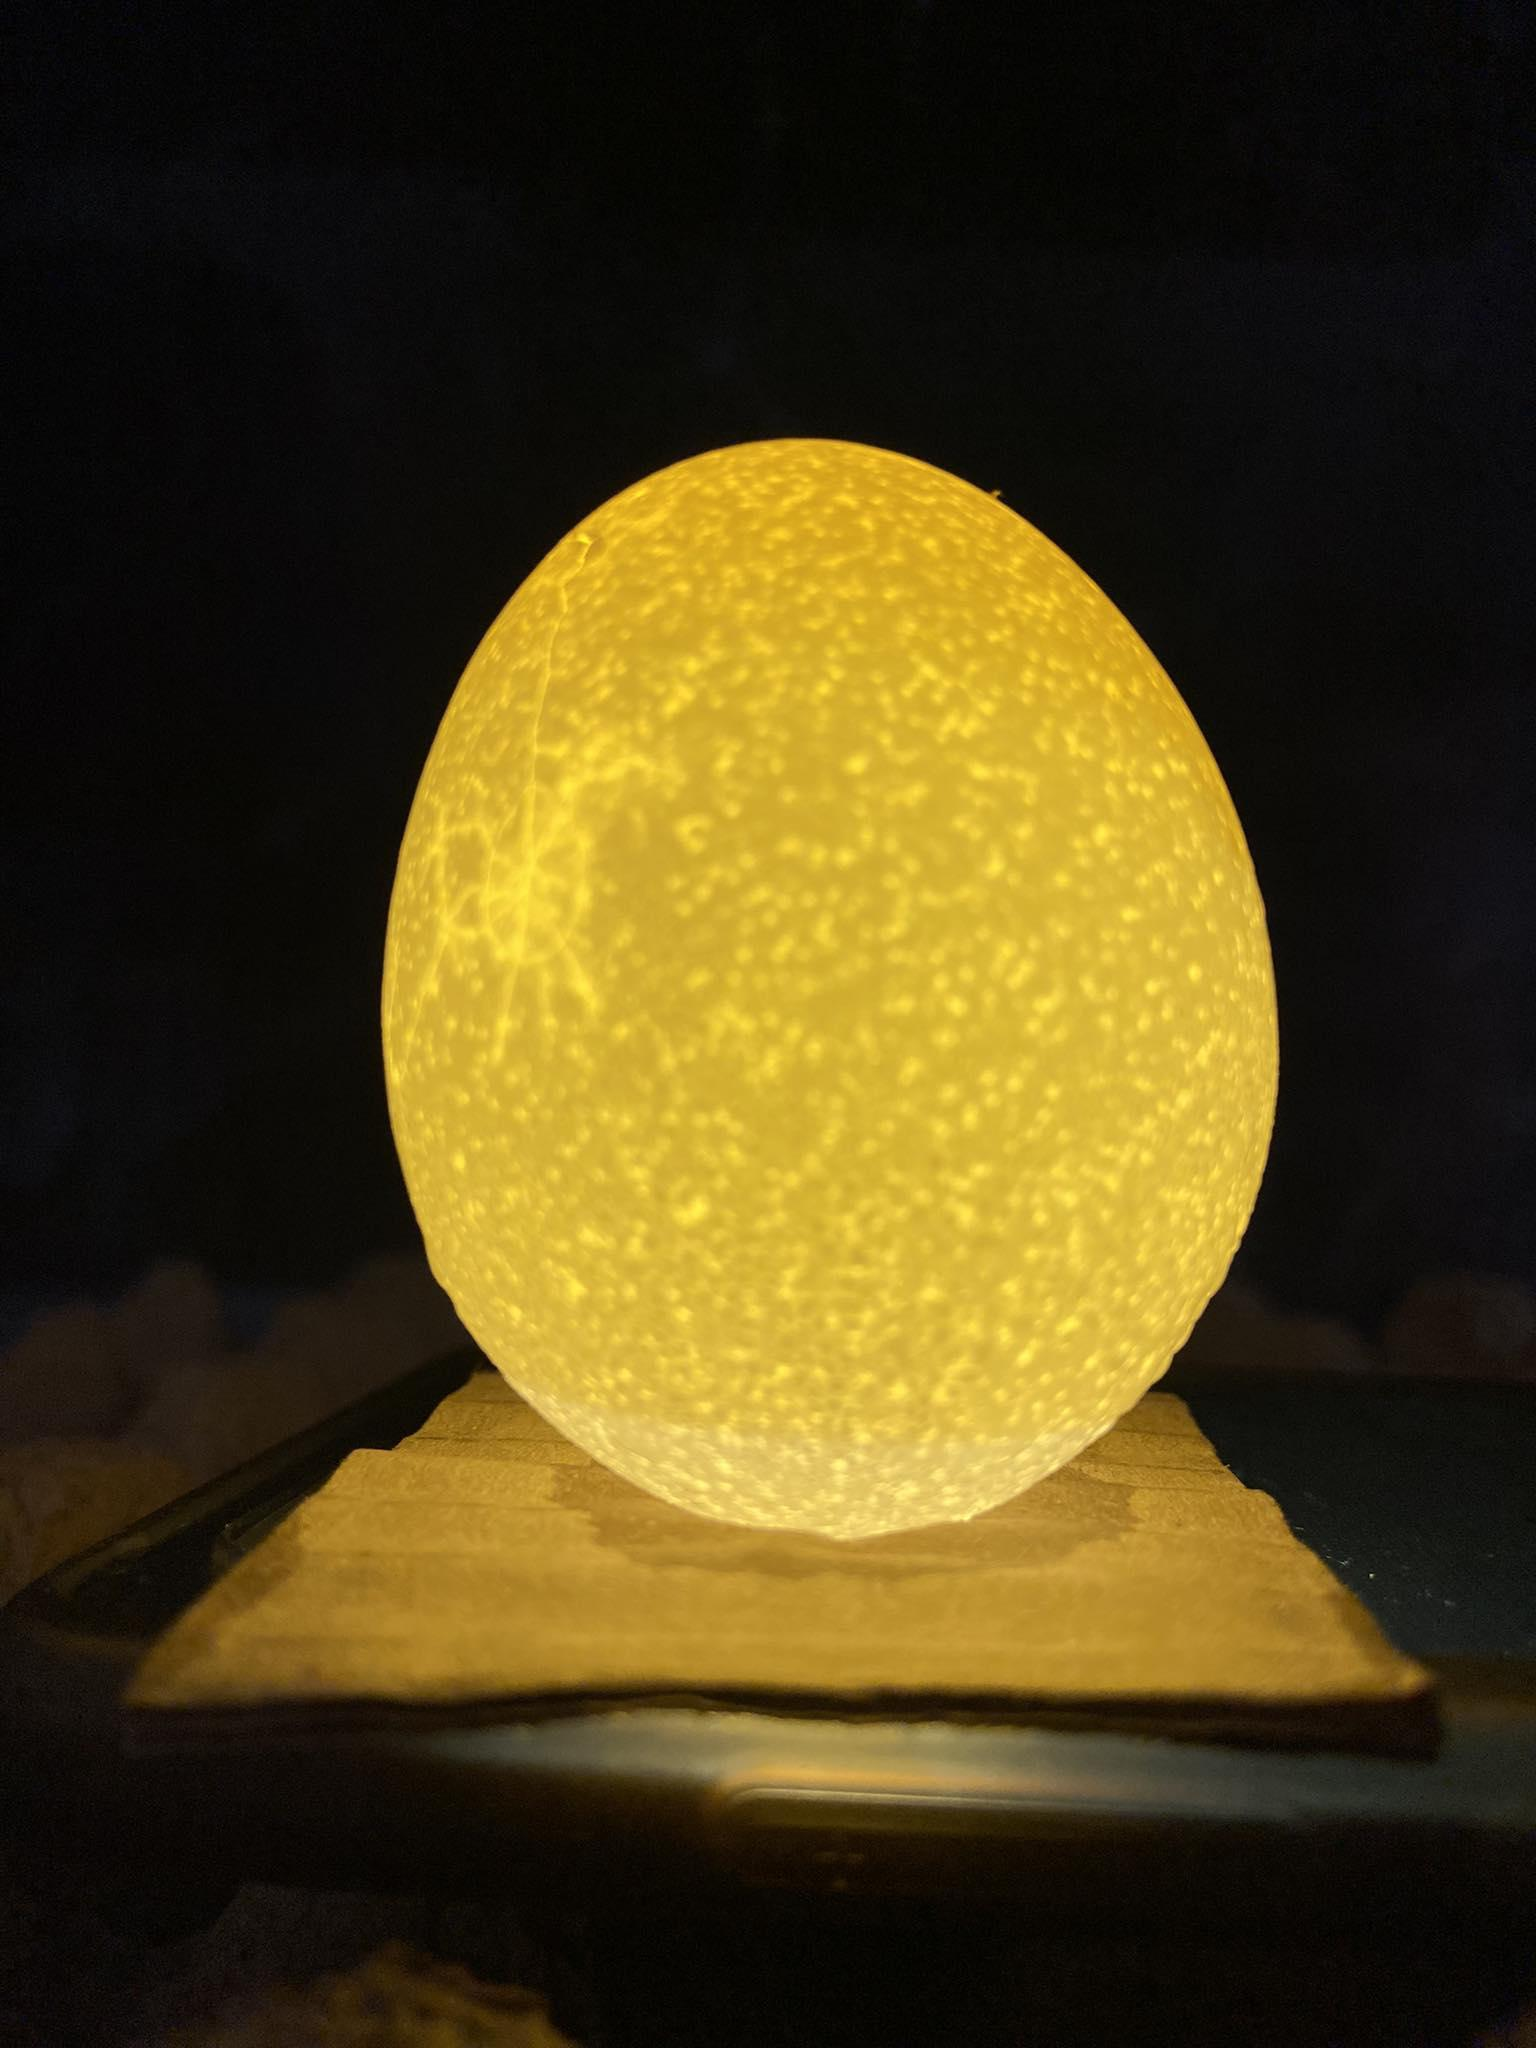B - Fair: (381, 403, 1286, 1517)
